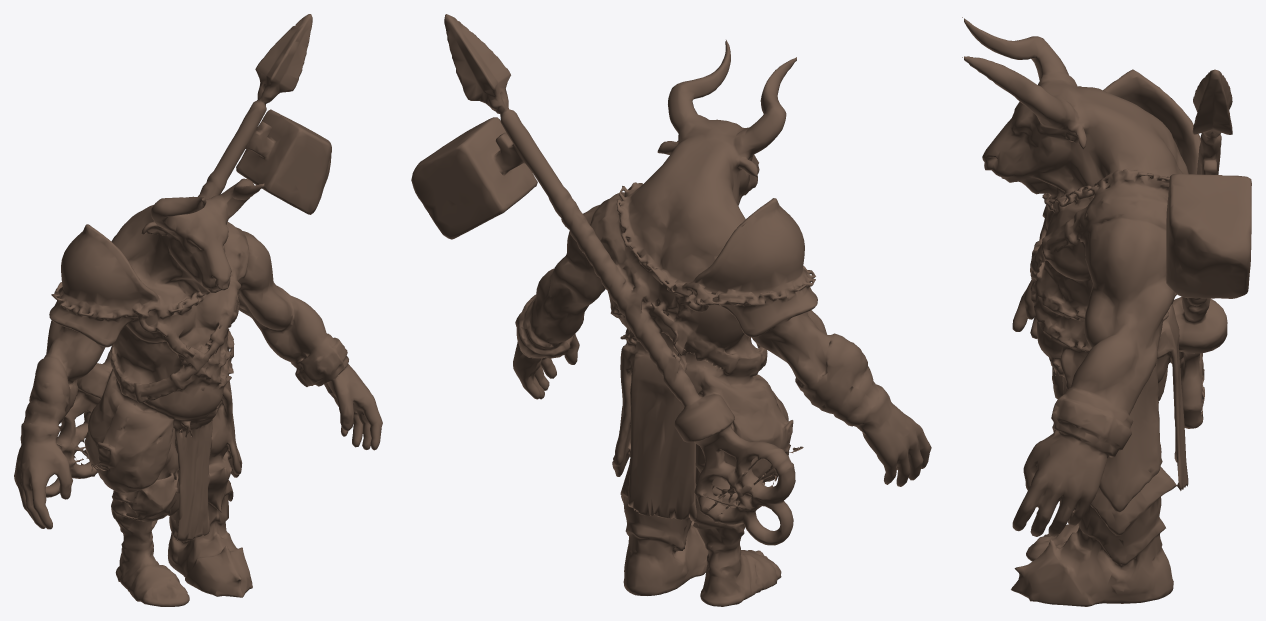
Rendered from nm_minotaur_boss.glb.
The picture shows the model from 3 angles, left to right: view 1: azimuth 30°, elevation 25°; view 2: azimuth 150°, elevation 25°; view 3: azimuth 270°, elevation 25°; orthographic projection. The views are drawn at different scales.
Visible parts, largest first — view 1: Object_2; view 2: Object_2; view 3: Object_2.
Boxes of the visible parts, <box> form: Object_2: <box>14,14,382,606</box>; Object_2: <box>411,14,931,606</box>; Object_2: <box>962,17,1251,606</box>.
Bounding box in the file's own units: 2.4 × 3 × 1.29.
